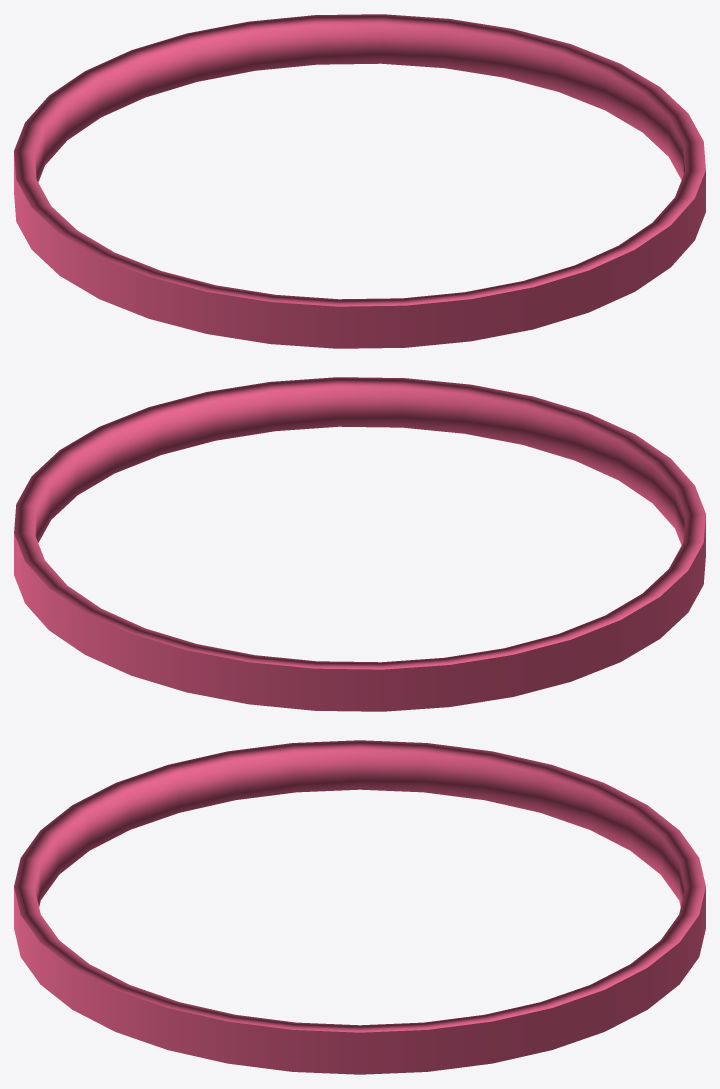
Rendered from sercle pink.fbx.
The picture shows the model from 3 angles, top to bottom: view 1: azimuth 30°, elevation 25°; view 2: azimuth 150°, elevation 25°; view 3: azimuth 270°, elevation 25°; orthographic projection.
Visible parts, largest first — view 1: Cylinder; view 2: Cylinder; view 3: Cylinder.
Boxes of the visible parts, bbox=[...] form: Cylinder: bbox=[14, 14, 705, 348]; Cylinder: bbox=[14, 377, 705, 711]; Cylinder: bbox=[14, 740, 705, 1074].
Size of the model in its own units: 200 by 13.41 by 200.
